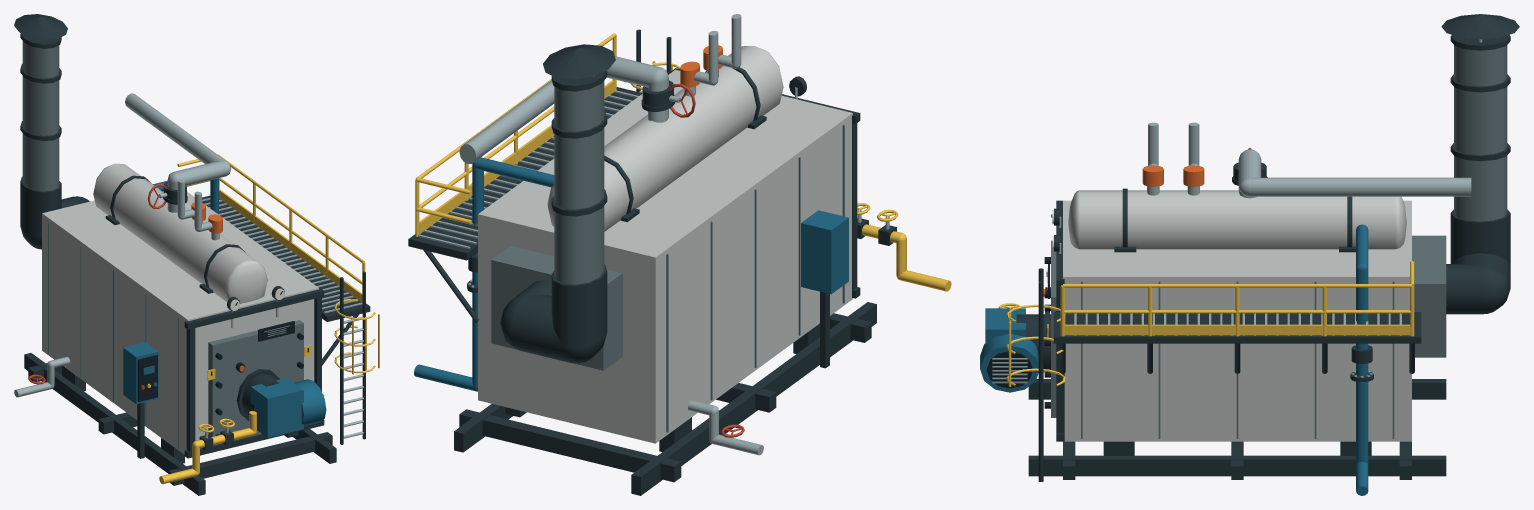
The model's file is ethanol_plant_steam_boiler_narrow_long.glb.
The picture shows the model from 3 angles, left to right: view 1: azimuth 30°, elevation 25°; view 2: azimuth 150°, elevation 25°; view 3: azimuth 270°, elevation 25°; orthographic projection. The views are drawn at different scales.
Visible parts, largest first — view 1: Insulated_Boiler_Casing, Upper_Steam_Drum, Front_Combustion_Door, Exhaust_Stack, Skid_Longitudinal_Beam (×2), Skid_Crossmember (×2), Burner_Housing, Service_Platform, Front_Frame_Upright (×2), Front_Frame (×2), Main_Steam_Outlet_segment_3, Flue_Duct_segment_3 (+13 smaller); view 2: Insulated_Boiler_Casing, Upper_Steam_Drum, Exhaust_Stack, Skid_Longitudinal_Beam (×2), Skid_Crossmember (×3), Rear_Flue_Box, Control_Cabinet, Flue_Duct_segment_3, Service_Platform, Flue_Duct_segment_2, Main_Steam_Outlet_segment_3, Stack_Rain_Cap (+11 smaller); view 3: Insulated_Boiler_Casing, Upper_Steam_Drum, Skid_Longitudinal_Beam (×2), Exhaust_Stack, Service_Platform, Main_Steam_Outlet_segment_3, Platform_Toeboard, Rear_Flue_Box, Side_Guardrail (×2), Flue_Duct_segment_3, Feedwater_Line_segment_2, Flue_Duct_segment_1 (+12 smaller).
Part boxes in pixels (<box>): Insulated_Boiler_Casing: <box>42,191,318,454</box>; Upper_Steam_Drum: <box>93,163,256,301</box>; Front_Combustion_Door: <box>208,320,303,445</box>; Exhaust_Stack: <box>22,41,59,191</box>; Skid_Longitudinal_Beam (×2): <box>24,353,336,495</box>; Skid_Crossmember (×2): <box>98,412,332,485</box>; Burner_Housing: <box>250,378,303,437</box>; Service_Platform: <box>202,195,370,321</box>; Front_Frame_Upright (×2): <box>186,293,321,456</box>; Front_Frame (×2): <box>184,288,324,458</box>; Main_Steam_Outlet_segment_3: <box>125,93,226,163</box>; Flue_Duct_segment_3: <box>20,176,61,237</box>; Insulated_Boiler_Casing: <box>478,69,852,443</box>; Upper_Steam_Drum: <box>604,46,783,231</box>; Exhaust_Stack: <box>554,81,604,284</box>; Skid_Longitudinal_Beam (×2): <box>454,302,876,495</box>; Skid_Crossmember (×3): <box>459,313,871,482</box>; Rear_Flue_Box: <box>491,246,622,370</box>; Control_Cabinet: <box>801,210,848,294</box>; Flue_Duct_segment_3: <box>551,264,607,347</box>; Service_Platform: <box>408,87,642,260</box>; Flue_Duct_segment_2: <box>511,294,570,362</box>; Main_Steam_Outlet_segment_3: <box>459,80,554,163</box>; Stack_Rain_Cap: <box>543,44,615,79</box>; Insulated_Boiler_Casing: <box>1063,200,1411,441</box>; Upper_Steam_Drum: <box>1080,190,1394,249</box>; Skid_Longitudinal_Beam (×2): <box>1028,379,1446,476</box>; Exhaust_Stack: <box>1454,45,1507,221</box>; Service_Platform: <box>1053,312,1421,343</box>; Main_Steam_Outlet_segment_3: <box>1250,177,1471,196</box>; Platform_Toeboard: <box>1064,324,1410,335</box>; Rear_Flue_Box: <box>1412,235,1446,357</box>; Side_Guardrail (×2): <box>1063,284,1411,313</box>; Flue_Duct_segment_3: <box>1450,209,1510,266</box>; Feedwater_Line_segment_2: <box>1356,269,1368,464</box>; Flue_Duct_segment_1: <box>1446,264,1480,314</box>.
Size of the model in its own units: 6.34 by 8.14 by 9.96.
